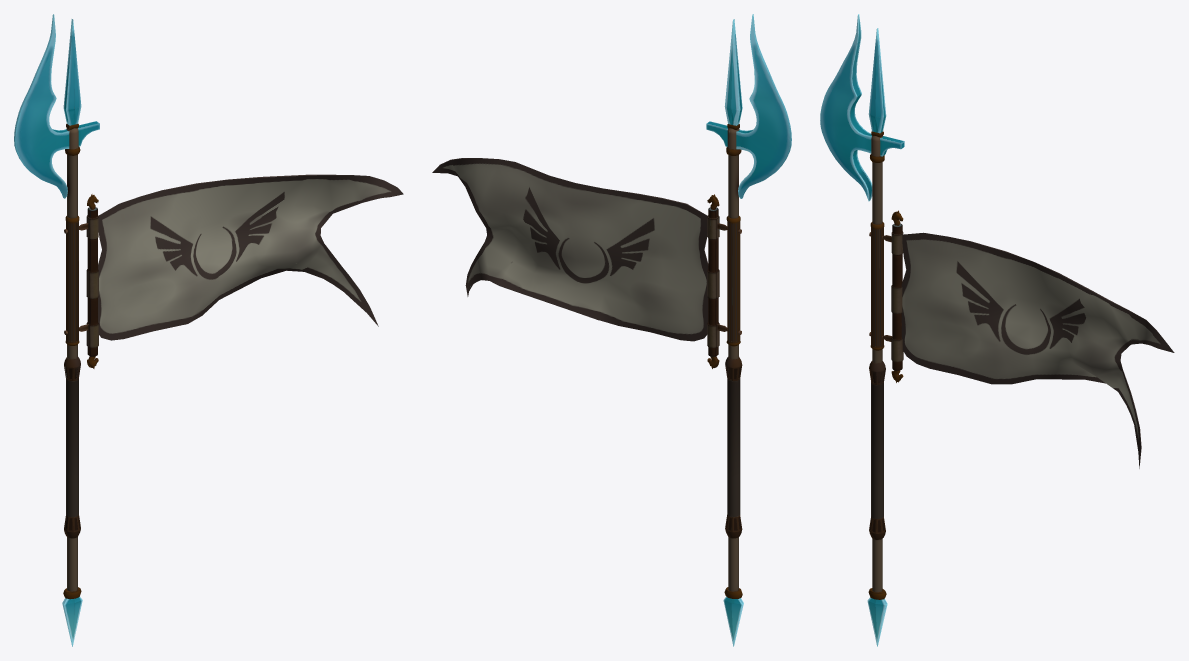
The model's file is Flag.fbx.
The picture shows the model from 3 angles, left to right: view 1: azimuth 30°, elevation 25°; view 2: azimuth 150°, elevation 25°; view 3: azimuth 330°, elevation 25°; orthographic projection.
Visible parts, largest first — view 1: Flag; view 2: Flag; view 3: Flag.
Boxes of the visible parts, box(x1,y1,x2,y2) form: Flag: box(14, 14, 403, 646); Flag: box(432, 14, 791, 646); Flag: box(820, 14, 1174, 646).
Bounding box in the file's own units: 208 × 338 × 30.32.
